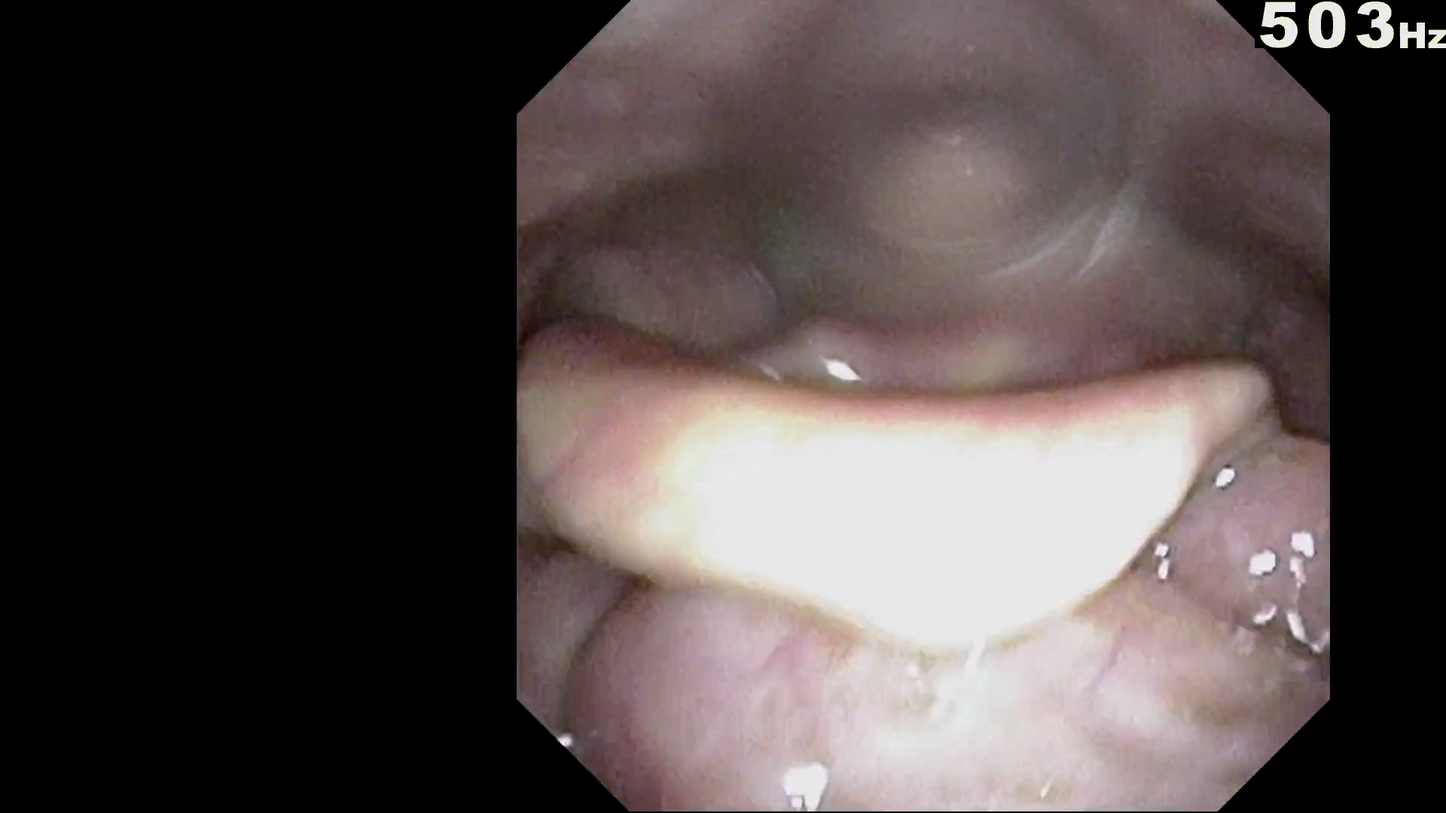epiglottis: (619, 358, 1235, 583)
